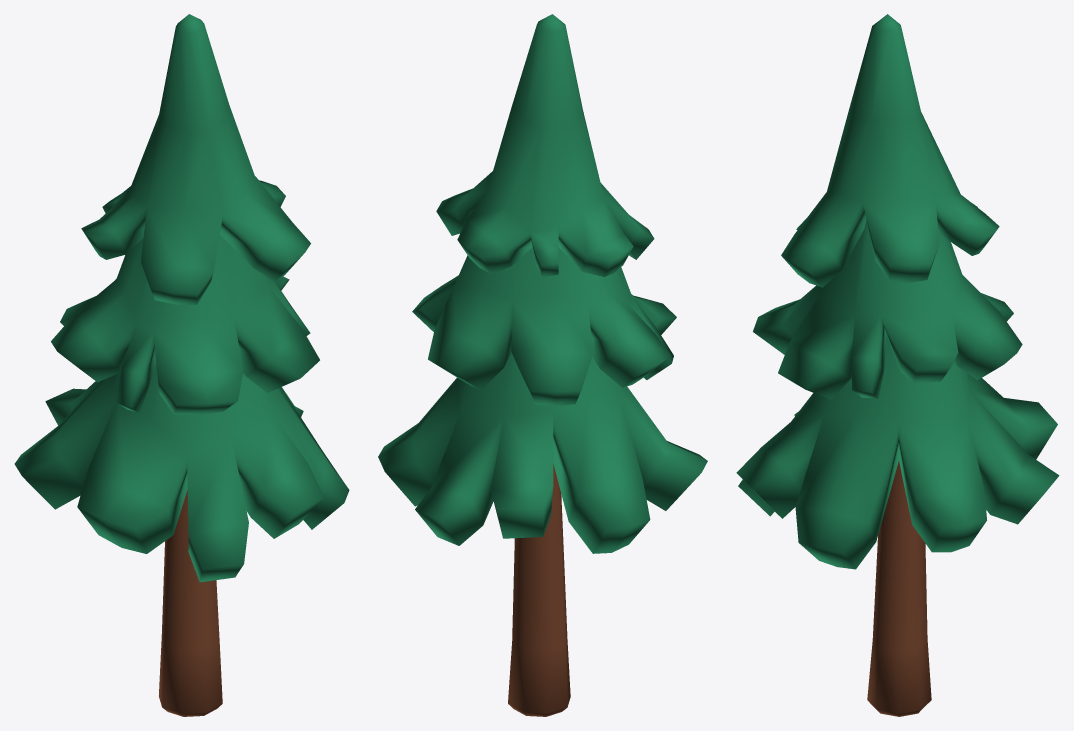
The model's file is Pine_05_LOD2.gltf.
3 renders of one model, left to right at view 1: azimuth 30°, elevation 25°; view 2: azimuth 150°, elevation 25°; view 3: azimuth 270°, elevation 25°, orthographic.
Visible parts, largest first — view 1: Pine_05_LOD2_Cylinder.788; view 2: Pine_05_LOD2_Cylinder.788; view 3: Pine_05_LOD2_Cylinder.788.
Boxes of the visible parts, left/top/right/bottom form: Pine_05_LOD2_Cylinder.788: left=14, top=14, right=349, bottom=716; Pine_05_LOD2_Cylinder.788: left=378, top=14, right=707, bottom=716; Pine_05_LOD2_Cylinder.788: left=736, top=14, right=1059, bottom=716.
Bounding box in the file's own units: 6.29 × 15.22 × 6.48.
Materials: 1 (1 with a texture image).
